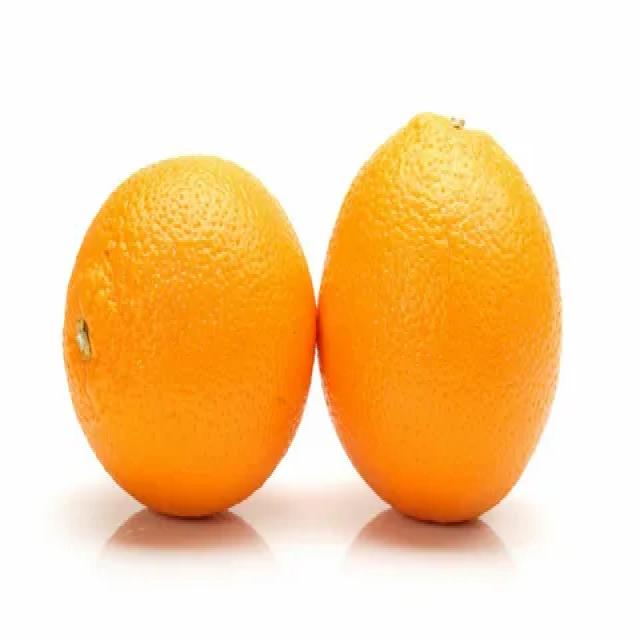orange: (58, 134, 317, 552)
